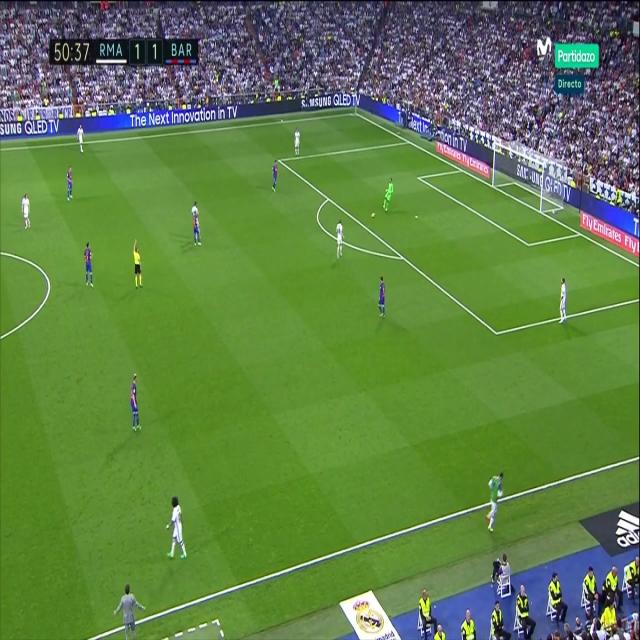Ball: (371, 209, 376, 220)
Goalkeeper: (382, 176, 394, 214)
Player: (164, 495, 189, 564), (129, 370, 142, 436), (83, 238, 95, 290), (190, 201, 203, 249), (375, 273, 388, 321), (558, 275, 568, 329), (334, 218, 346, 261), (20, 191, 30, 235), (64, 165, 75, 204), (270, 158, 281, 195), (291, 125, 302, 158), (76, 124, 86, 156)
Referee: (132, 238, 144, 290)
